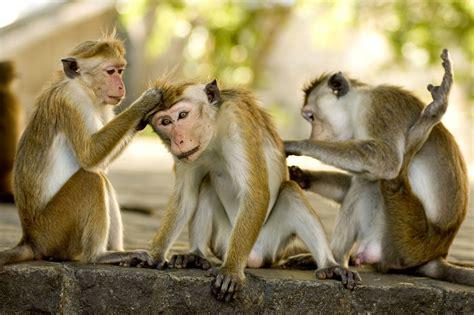monkey: (141, 80, 360, 299), (283, 74, 474, 284), (1, 38, 159, 265)
